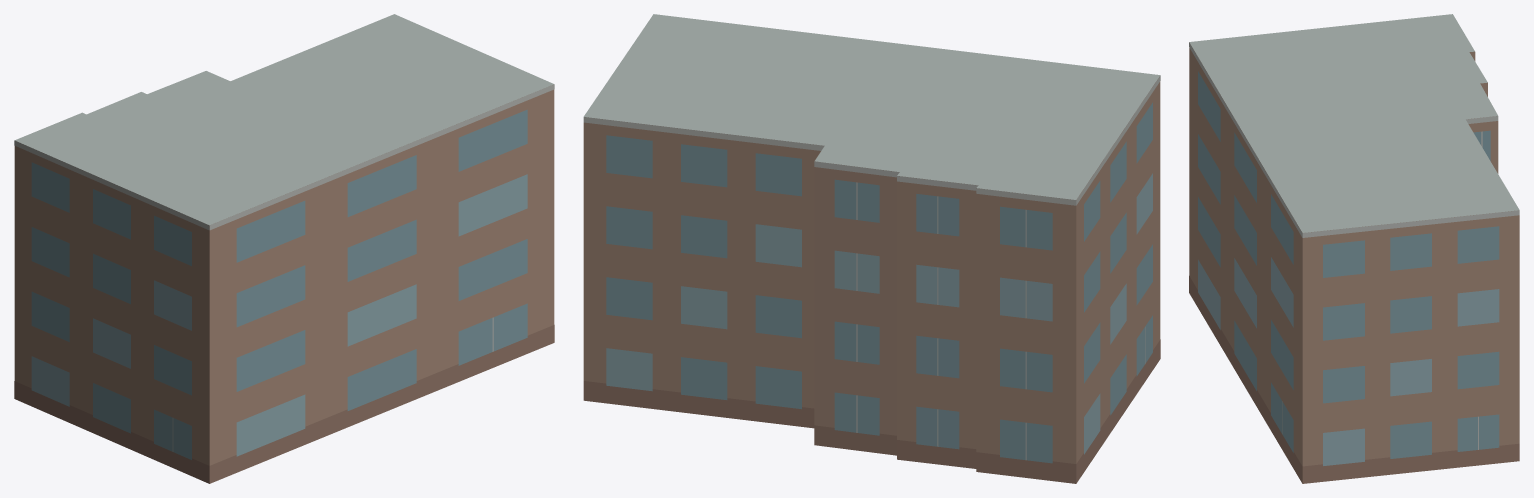
The model's file is survey-upis-32958054.glb.
The picture shows the model from 3 angles, left to right: view 1: azimuth 30°, elevation 25°; view 2: azimuth 150°, elevation 25°; view 3: azimuth 270°, elevation 25°; orthographic projection. The views are drawn at different scales.
Parts seen in each view (by area): view 1: survey-upis-32958054.tmp; view 2: survey-upis-32958054.tmp; view 3: survey-upis-32958054.tmp.
Boxes of the visible parts, x1,y1,x2,y2 form: survey-upis-32958054.tmp: (14, 14, 554, 483); survey-upis-32958054.tmp: (583, 14, 1160, 483); survey-upis-32958054.tmp: (1189, 14, 1519, 483).
Size of the model in its own units: 22.85 by 12.2 by 14.58.
